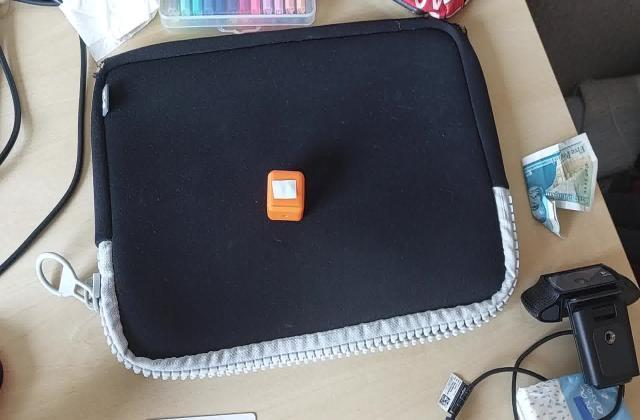sticker: (266, 170, 306, 224)
white: (270, 178, 300, 200)
